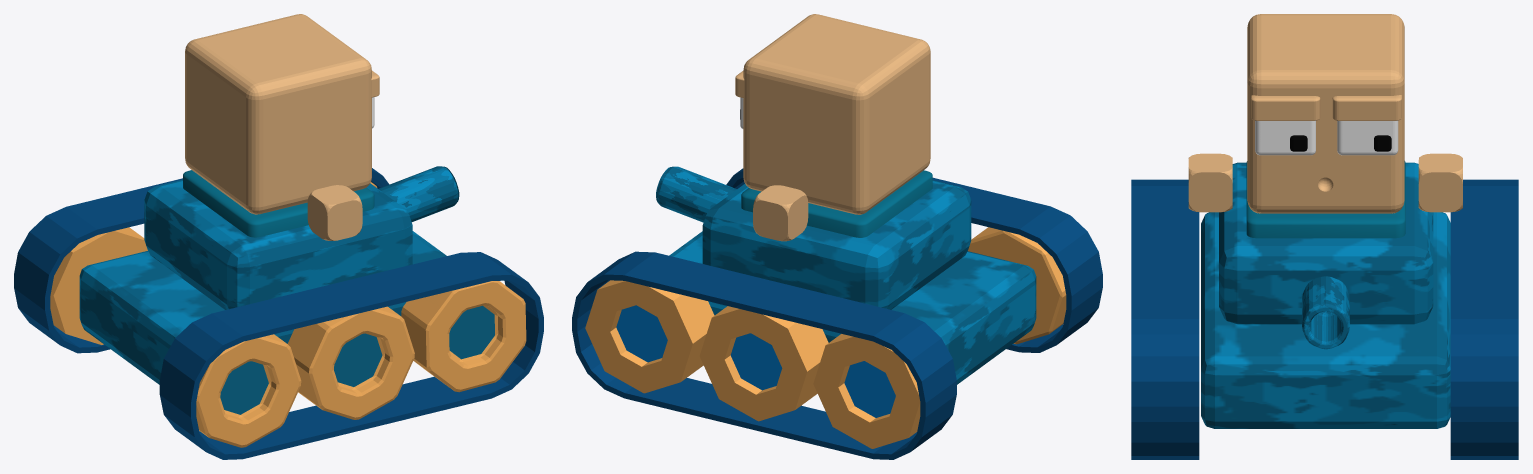
File: tank.glb
The picture shows the model from 3 angles, left to right: view 1: azimuth 30°, elevation 25°; view 2: azimuth 150°, elevation 25°; view 3: azimuth 270°, elevation 25°; orthographic projection. The views are drawn at different scales.
Visible parts, largest first — view 1: Cube.014, Plane, tank, Cube.030, WheelCenter.R, WheelFront.R, WheelRear.R, Plane.002, WheelRear.L, Cube.016, Gun, Cube.028; view 2: Cube.014, Plane.002, tank, Cube.030, WheelFront.L, WheelCenter.L, WheelRear.L, Plane, WheelRear.R, Cube.016, Gun, Cube.027; view 3: Cube.030, Cube.014, tank, Plane, Plane.002, Cube.016, Gun, Cube.027, Cube.028, Cube.022, Cube.019, Cube.026 (+1 smaller).
Part boxes in pixels (box(x1,y1,x2,y2)): Cube.014: box(185, 14, 371, 214); Plane: box(159, 252, 543, 459); tank: box(144, 179, 412, 309); Cube.030: box(79, 231, 446, 384); WheelCenter.R: box(288, 306, 414, 419); WheelFront.R: box(401, 281, 526, 392); WheelRear.R: box(196, 334, 301, 447); Plane.002: box(14, 168, 389, 353); WheelRear.L: box(50, 227, 147, 344); Cube.016: box(183, 170, 374, 237); Gun: box(378, 166, 459, 221); Cube.028: box(307, 185, 362, 240); Cube.014: box(743, 14, 930, 214); Plane.002: box(572, 251, 956, 459); tank: box(702, 180, 971, 309); Cube.030: box(669, 231, 1036, 384); WheelFront.L: box(585, 280, 714, 393); WheelCenter.L: box(699, 306, 828, 421); WheelRear.L: box(813, 334, 920, 448); Plane: box(726, 168, 1102, 352); WheelRear.R: box(968, 227, 1066, 344); Cube.016: box(741, 170, 932, 237); Gun: box(656, 166, 736, 222); Cube.027: box(753, 185, 808, 241); Cube.030: box(1201, 212, 1450, 428); Cube.014: box(1247, 14, 1404, 213); tank: box(1219, 162, 1433, 324); Plane: box(1131, 179, 1199, 459); Plane.002: box(1450, 179, 1518, 459); Cube.016: box(1246, 161, 1405, 238); Gun: box(1302, 276, 1349, 349); Cube.027: box(1418, 153, 1462, 212); Cube.028: box(1188, 153, 1232, 212); Cube.022: box(1337, 120, 1398, 155); Cube.019: box(1255, 120, 1315, 155); Cube.026: box(1332, 95, 1401, 120).
Size of the model in its own units: 0.5067 by 0.4315 by 0.4397.
Materials: 12 (3 with a texture image).
